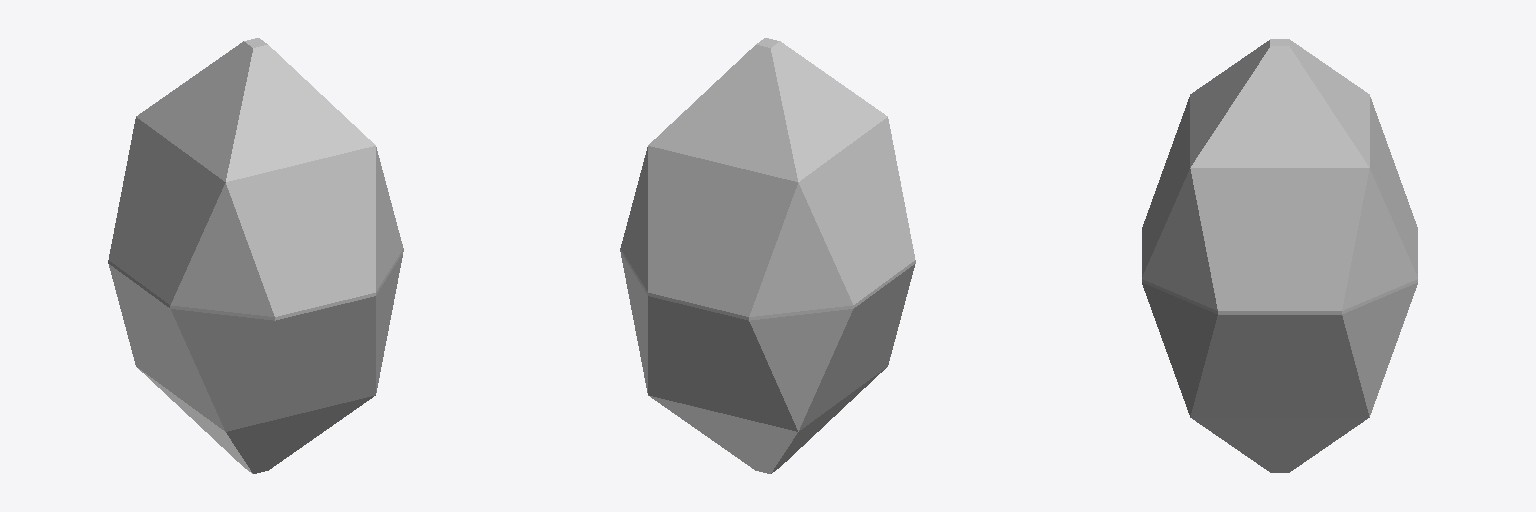
File: crystal.obj
3 renders of one model, left to right at view 1: azimuth 30°, elevation 25°; view 2: azimuth 150°, elevation 25°; view 3: azimuth 270°, elevation 25°, orthographic.
Parts seen in each view (by area): view 1: Cube; view 2: Cube; view 3: Cube.
Part boxes in pixels (bbox=[...]): Cube: bbox=[108, 38, 403, 473]; Cube: bbox=[620, 38, 915, 473]; Cube: bbox=[1142, 39, 1417, 472].
Bounding box in the file's own units: 1.14 × 2 × 1.18.